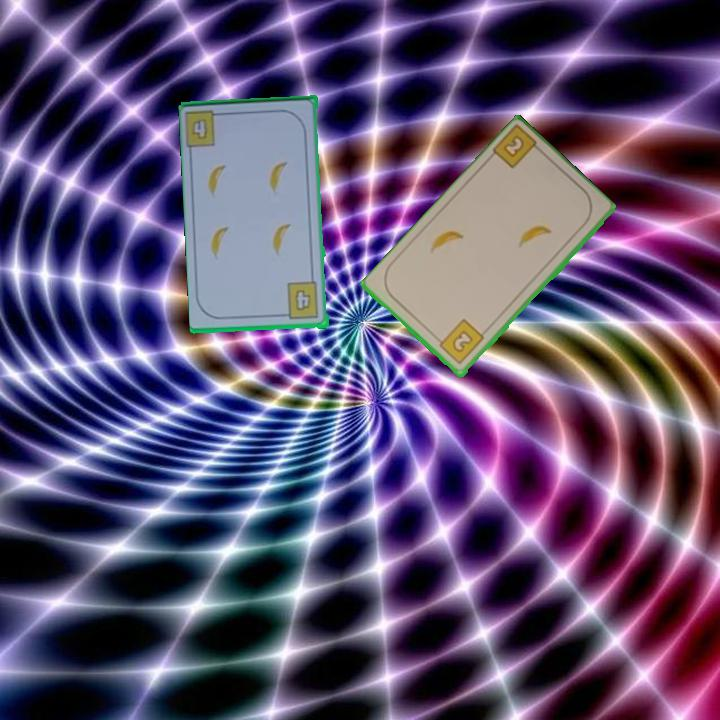2b: (432, 316, 487, 368), (489, 124, 547, 172)
4b: (183, 107, 228, 150), (279, 279, 322, 322)
